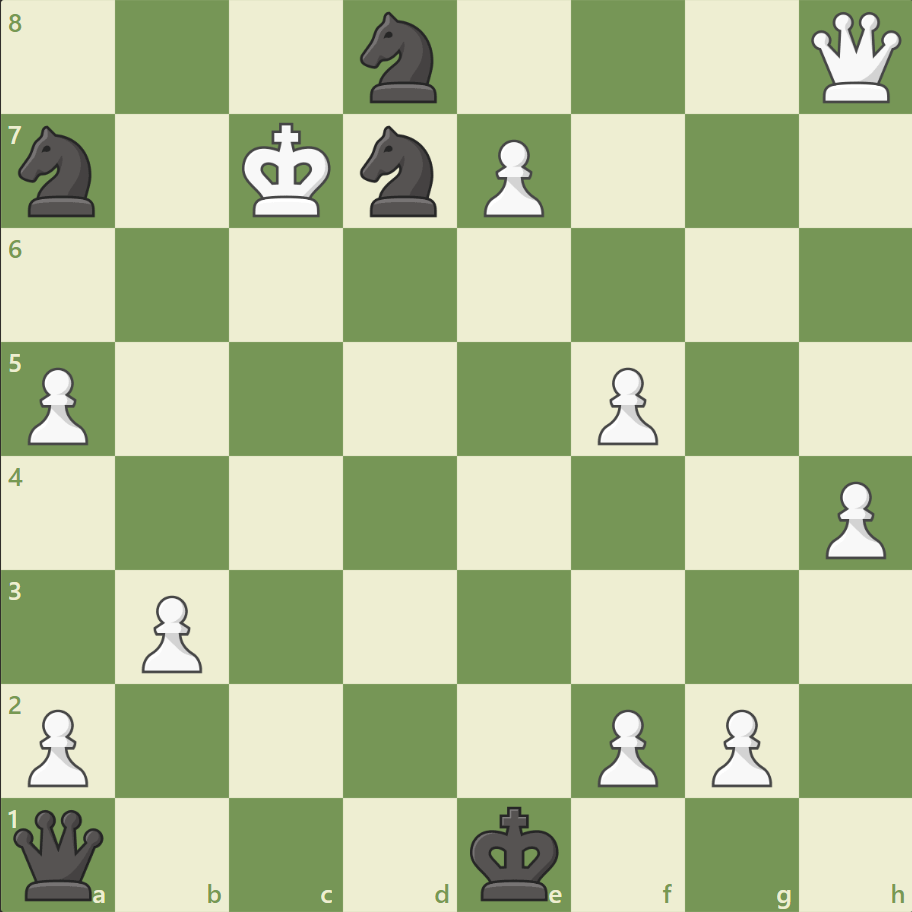K: (238, 117, 338, 225)
P: (474, 132, 549, 223), (20, 359, 95, 450), (133, 586, 208, 677), (20, 700, 95, 791), (701, 700, 776, 791), (588, 359, 662, 450), (815, 473, 889, 564), (588, 700, 662, 791)
Q: (805, 9, 904, 108)
k: (465, 798, 565, 906)
n: (351, 7, 449, 110), (351, 121, 449, 223), (11, 121, 108, 223)
q: (10, 804, 109, 903)
